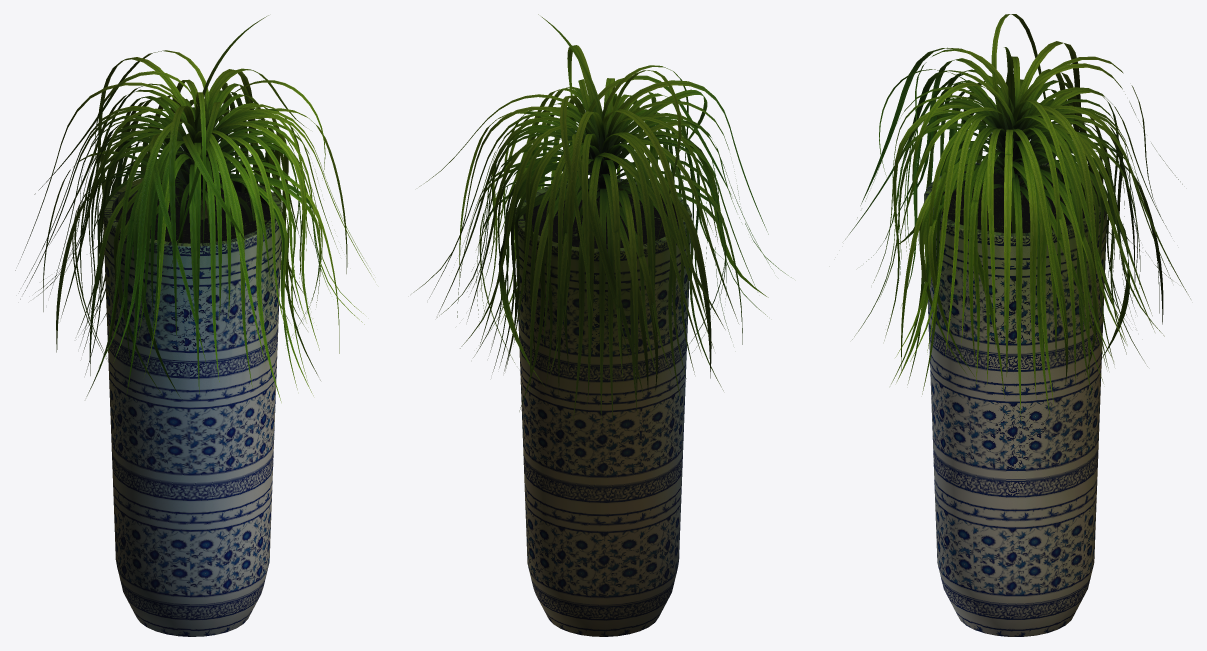
The model's file is CR_Plant_Right.FBX.
3 views of the same model, side by side, from view 1: azimuth 30°, elevation 25°; view 2: azimuth 150°, elevation 25°; view 3: azimuth 270°, elevation 25° (orthographic). The views are drawn at different scales.
Parts seen in each view (by area): view 1: CR_Plant_Right, CR_Leaves_Right; view 2: CR_Plant_Right, CR_Leaves_Right; view 3: CR_Plant_Right, CR_Leaves_Right.
Part boxes in pixels (x1=…): CR_Plant_Right: x1=103, y1=173, x2=282, y2=636; CR_Leaves_Right: x1=15, y1=15, x2=373, y2=402; CR_Plant_Right: x1=515, y1=178, x2=691, y2=636; CR_Leaves_Right: x1=413, y1=14, x2=791, y2=425; CR_Plant_Right: x1=924, y1=162, x2=1107, y2=636; CR_Leaves_Right: x1=845, y1=14, x2=1190, y2=420.
Size of the model in its own units: 119 by 222 by 123.
